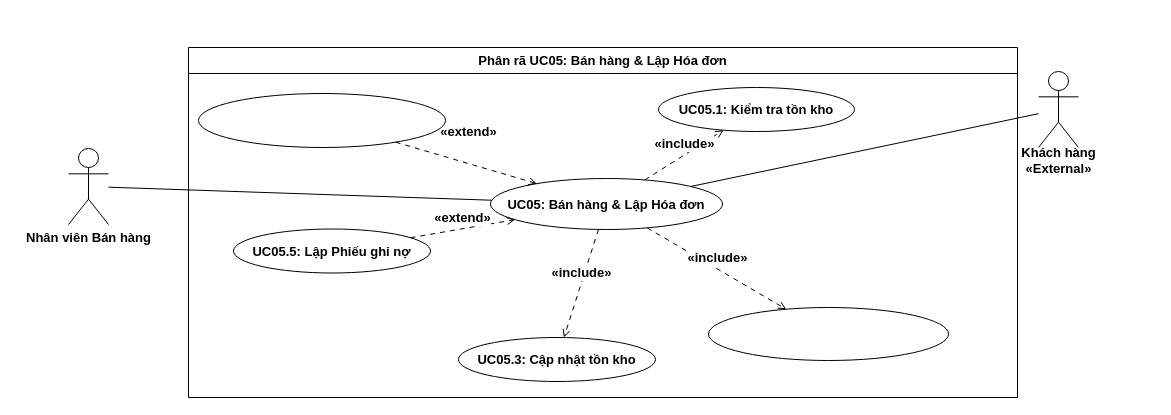
This 1171x415 diagram has some shape labels left out. Here are the shapes that lost their labels. From the top down, the centre of each, then its label:
point (322, 120): UC05.4: Lập Phiếu hẹn giao hàng
point (828, 333): UC05.2: Lập Hóa đơn thanh toán
